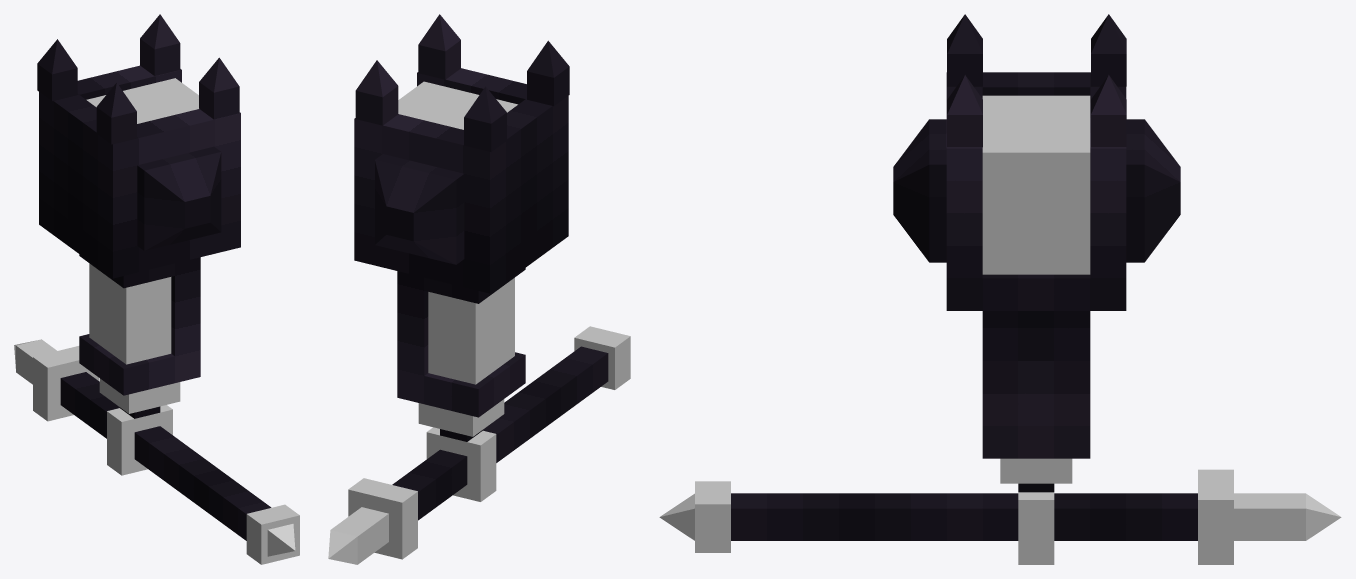
The model's file is arm_caster_r.obj.
3 renders of one model, left to right at view 1: azimuth 30°, elevation 25°; view 2: azimuth 150°, elevation 25°; view 3: azimuth 270°, elevation 25°, orthographic. The views are drawn at different scales.
Visible parts, largest first — view 1: ARM_RIGHT_CASTER_Cube.008, ARM_RIGHT_DECO_IRON_Cube.139; view 2: ARM_RIGHT_CASTER_Cube.008, ARM_RIGHT_DECO_IRON_Cube.139; view 3: ARM_RIGHT_CASTER_Cube.008, ARM_RIGHT_DECO_IRON_Cube.139.
Boxes of the visible parts, box(x1,y1,x2,y2) form: ARM_RIGHT_CASTER_Cube.008: box(14, 65, 299, 564); ARM_RIGHT_DECO_IRON_Cube.139: box(37, 14, 239, 250); ARM_RIGHT_CASTER_Cube.008: box(328, 68, 630, 564); ARM_RIGHT_DECO_IRON_Cube.139: box(355, 14, 569, 264); ARM_RIGHT_CASTER_Cube.008: box(659, 72, 1341, 564); ARM_RIGHT_DECO_IRON_Cube.139: box(893, 14, 1180, 262).
Size of the model in its own units: 0.3157 by 0.9688 by 1.19.
